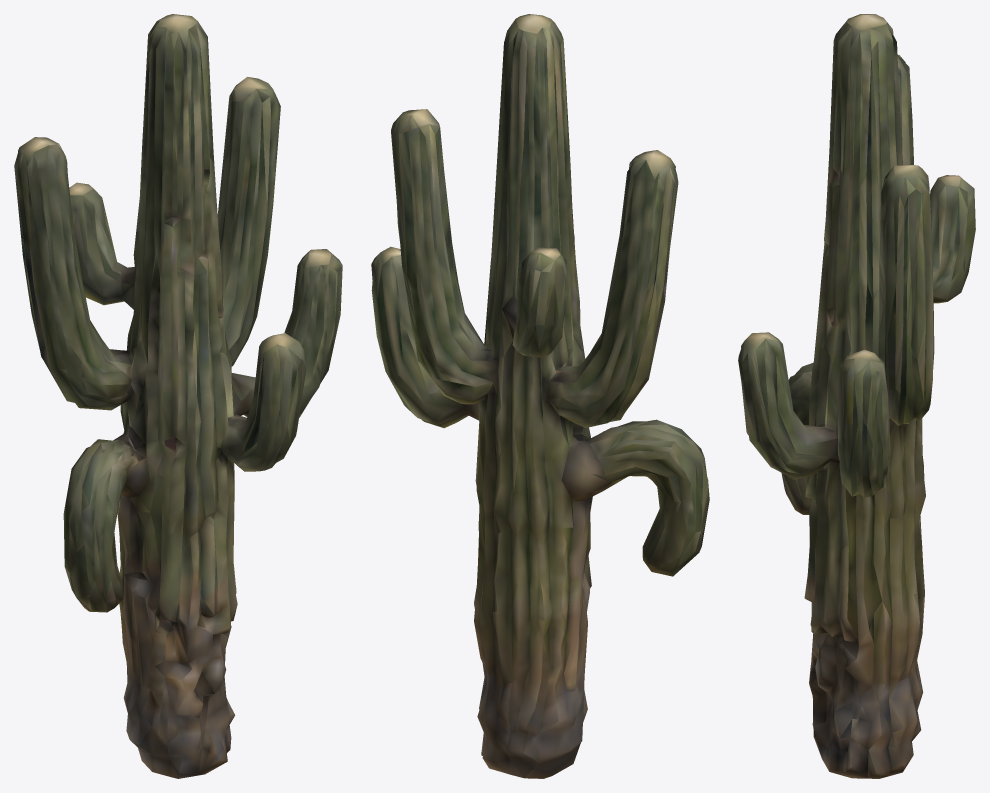
File: saguaro_giant.glb
The picture shows the model from 3 angles, left to right: view 1: azimuth 30°, elevation 25°; view 2: azimuth 150°, elevation 25°; view 3: azimuth 270°, elevation 25°; orthographic projection.
Visible parts, largest first — view 1: LO.001; view 2: LO.001; view 3: LO.001.
Boxes of the visible parts, box(x1,y1,x2,y2) form: LO.001: box(14, 14, 342, 778); LO.001: box(371, 14, 709, 778); LO.001: box(738, 14, 975, 778).
Bounding box in the file's own units: 5.19 × 12.01 × 3.43.
1 material, 1 textured.
